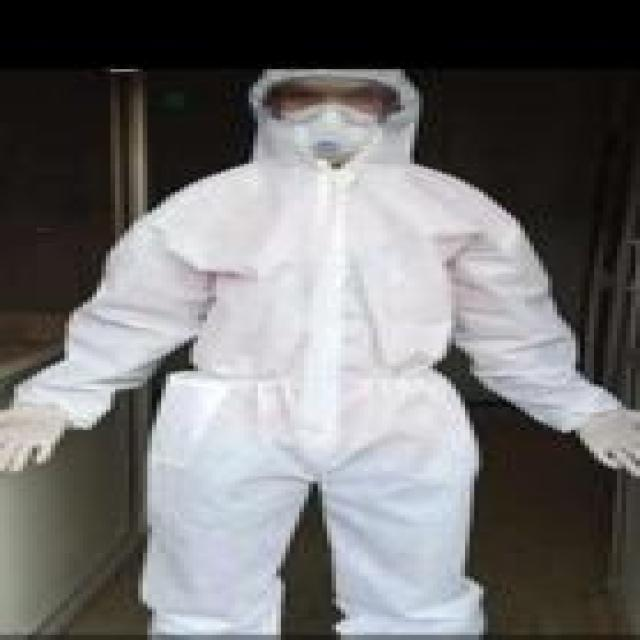Coverall: (0, 61, 631, 640)
Gloves: (571, 402, 640, 484), (0, 397, 69, 476)
Mask: (272, 105, 378, 156)
